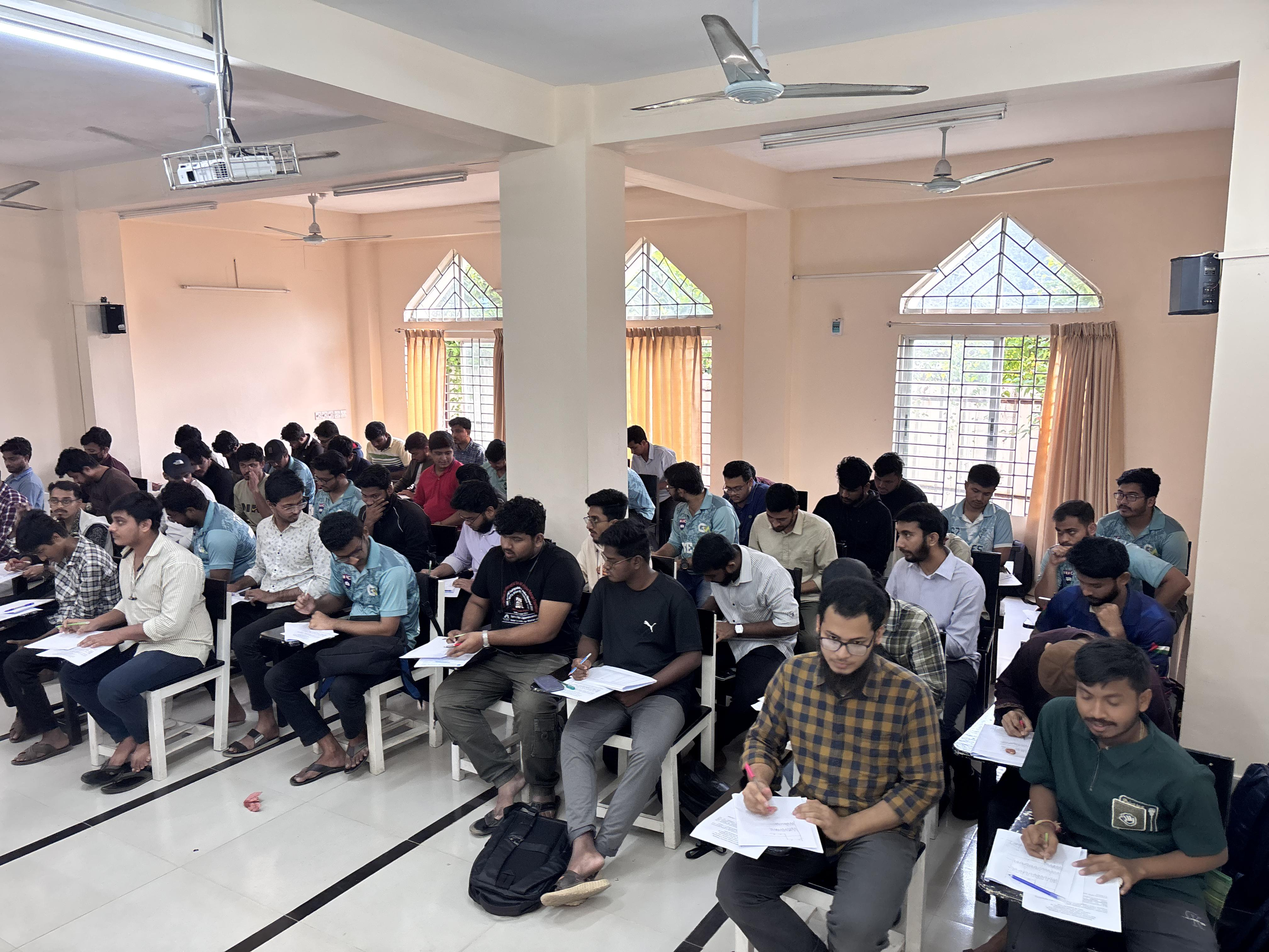copying: (277, 531, 438, 712), (571, 535, 685, 756), (221, 482, 337, 613), (172, 440, 224, 492)
hidden_communication: (418, 506, 586, 741)
no_cheating: (735, 603, 927, 936), (1022, 679, 1204, 952), (87, 502, 227, 736), (12, 510, 106, 656), (973, 628, 1094, 740), (1049, 560, 1142, 652), (696, 535, 778, 639), (440, 484, 513, 594), (1099, 457, 1178, 554), (750, 491, 833, 580), (161, 484, 248, 568), (940, 468, 1021, 553), (890, 520, 956, 620), (823, 449, 880, 564), (51, 447, 132, 516), (873, 442, 924, 528), (571, 486, 640, 548), (45, 482, 101, 540), (306, 454, 362, 510), (708, 453, 759, 511), (631, 419, 675, 484), (356, 417, 410, 468), (231, 447, 269, 507), (82, 415, 128, 463), (4, 433, 33, 507), (475, 431, 513, 485), (280, 418, 323, 452)
side_talking: (655, 462, 730, 554)
suspicious_moving: (350, 470, 431, 561), (413, 429, 475, 517)
